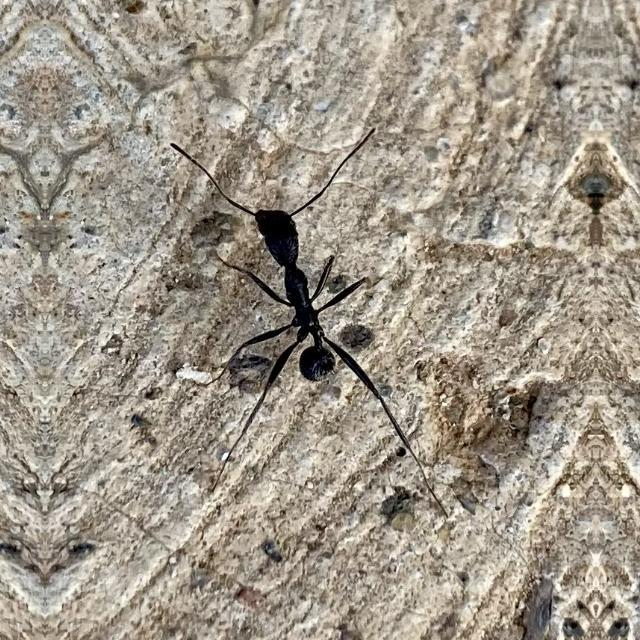Apheanogaster: (216, 170, 374, 410)
